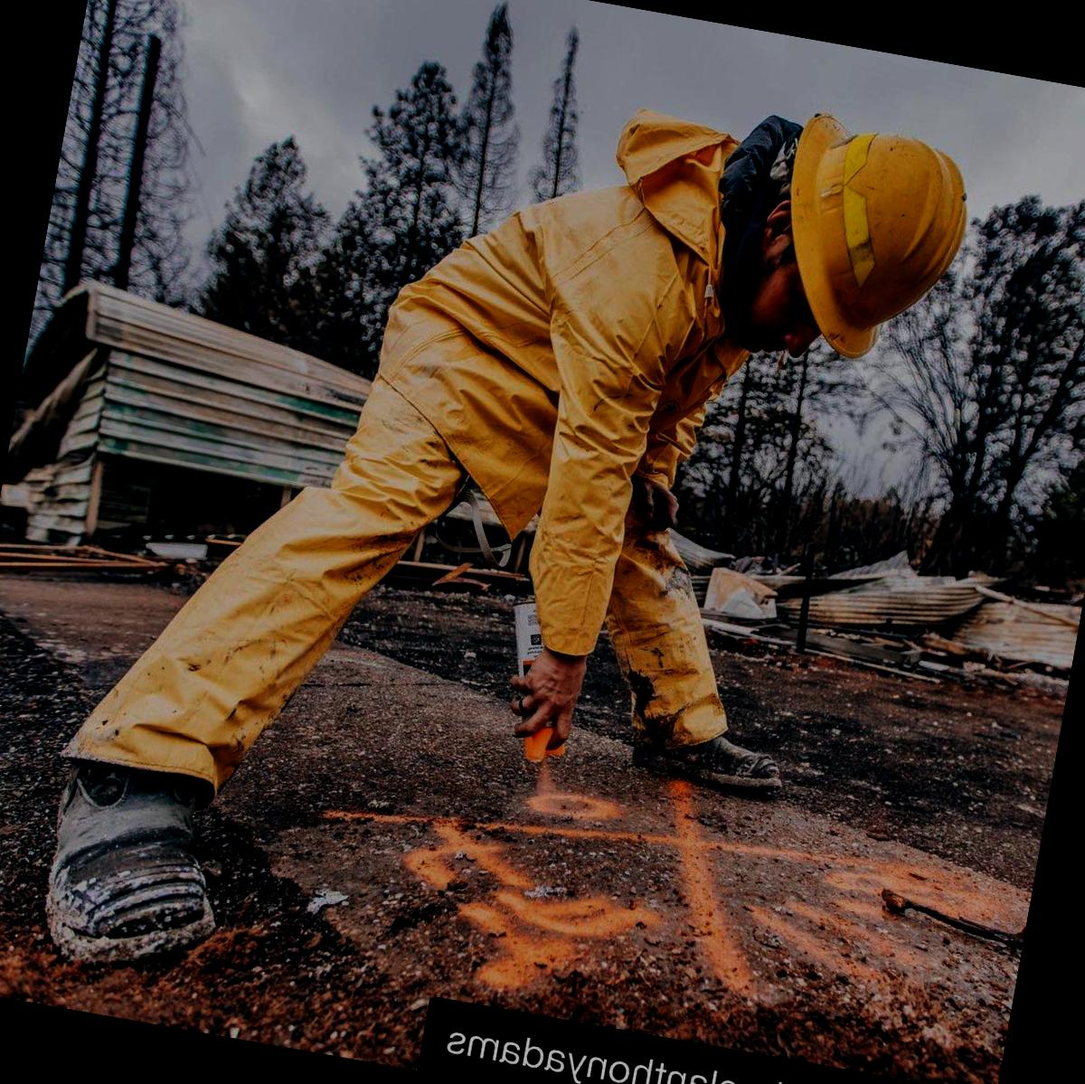helmet: (756, 116, 996, 391)
no_vest: (381, 126, 751, 550)
person: (266, 34, 983, 894)
